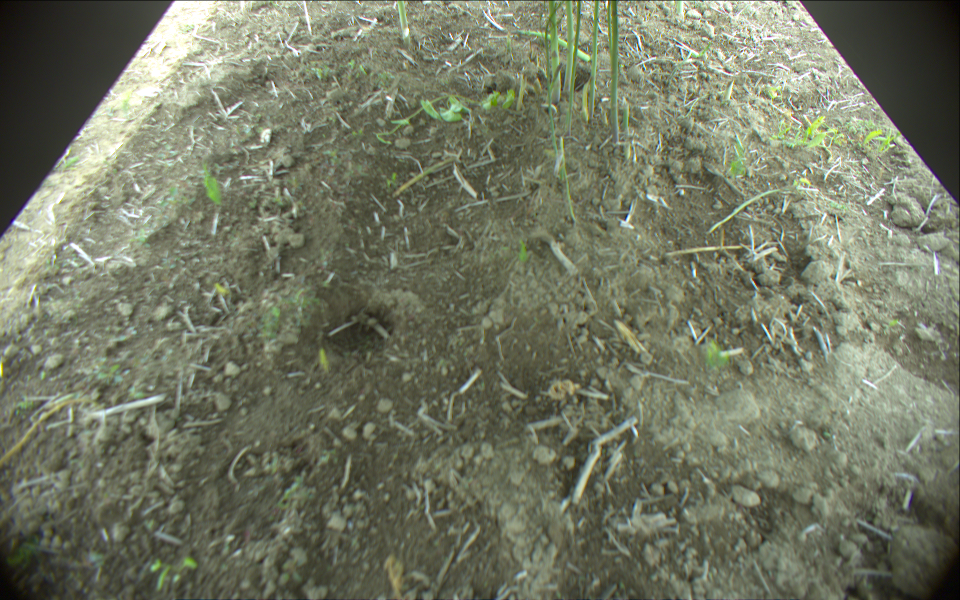aspa: (542, 1, 560, 158), (517, 29, 591, 63), (567, 1, 584, 140), (587, 1, 602, 118), (610, 1, 620, 142), (548, 1, 562, 101), (561, 1, 576, 94), (396, 1, 408, 30), (622, 103, 629, 137)
